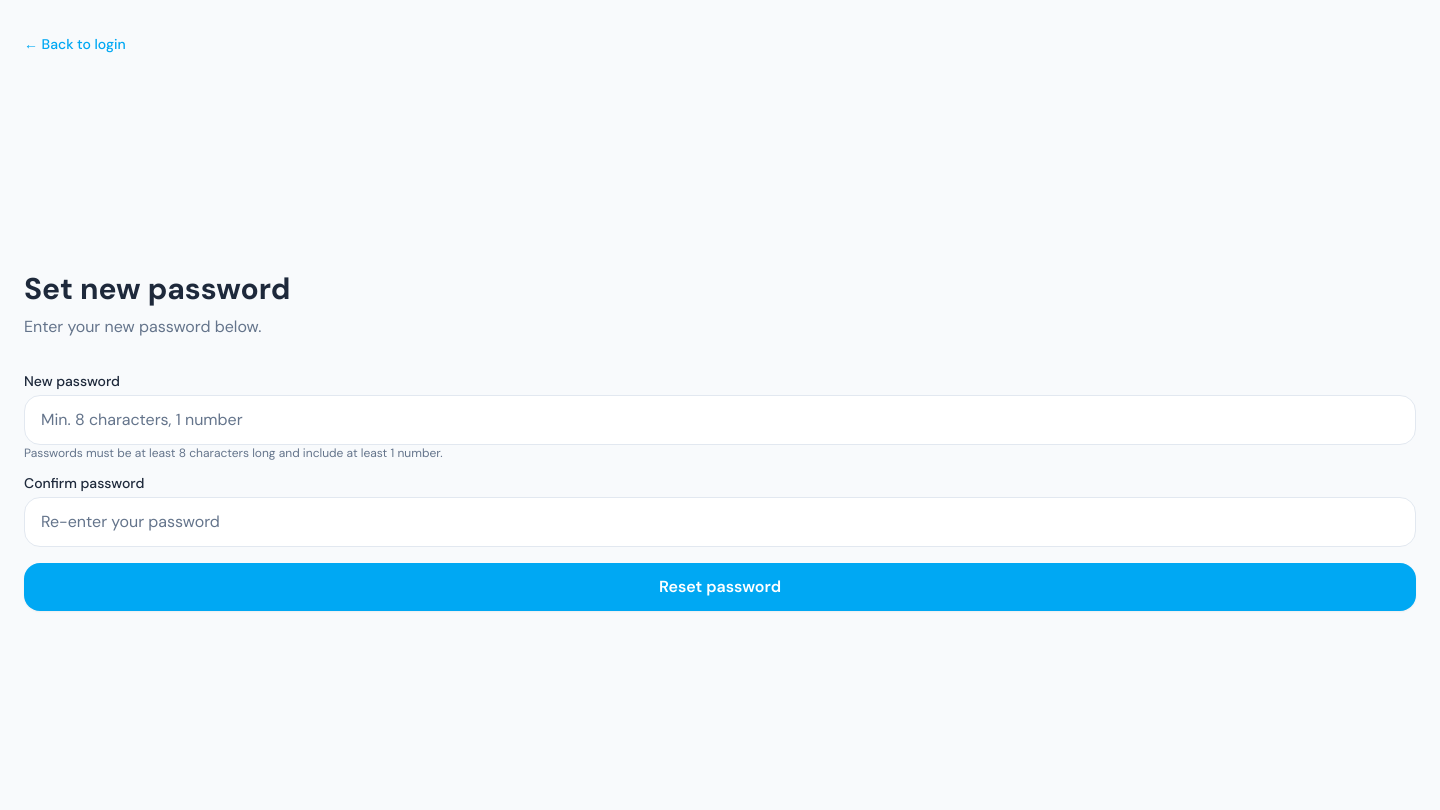
Test: ResetPasswordPage › shows error when passwords do not match
Type "securePass1" into the password field with test id "password-input" at {"x": 720, "y": 420}, box [24,395,1416,445]
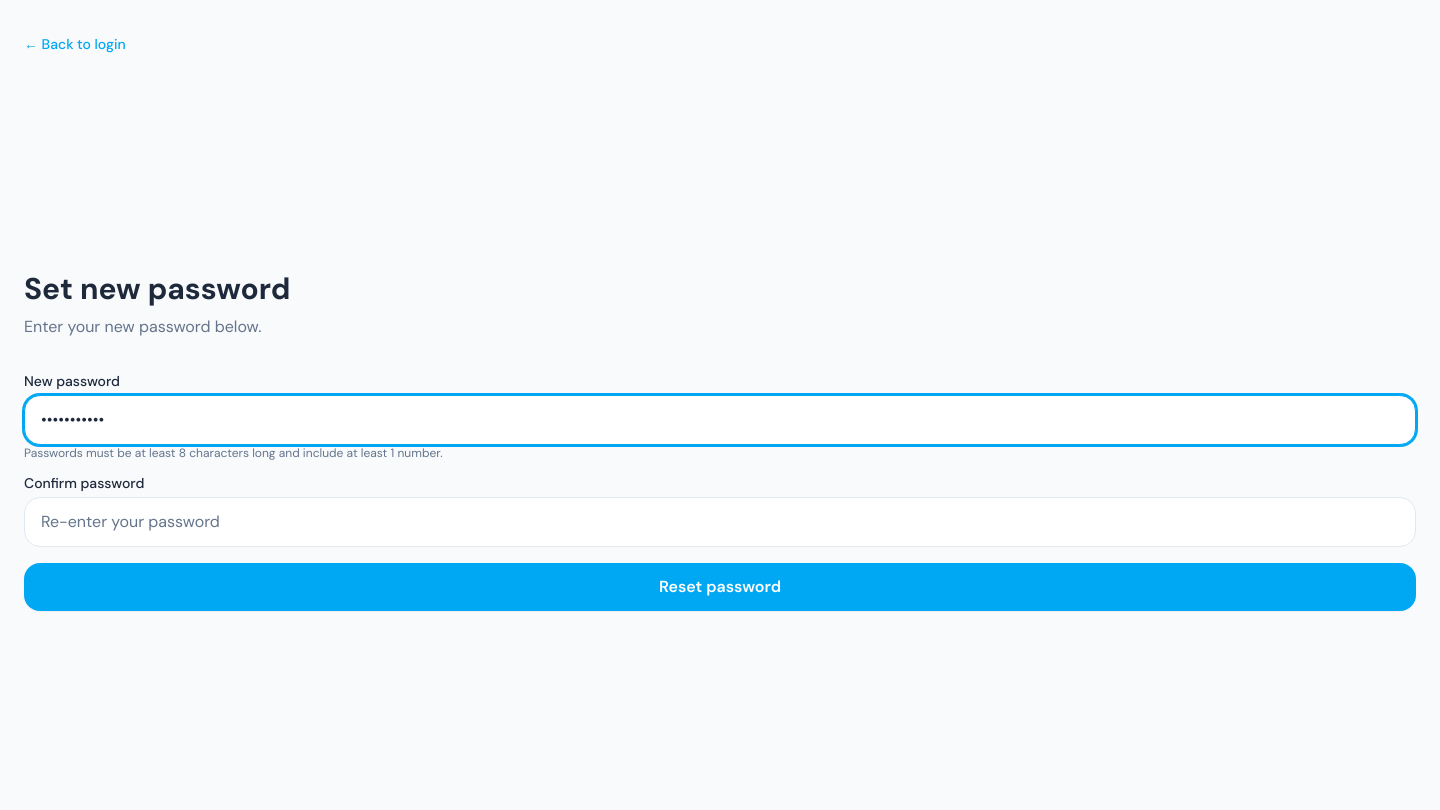
Type "differentPass1" into the password field with test id "confirm-password-input" at {"x": 720, "y": 522}, box [24,497,1416,547]
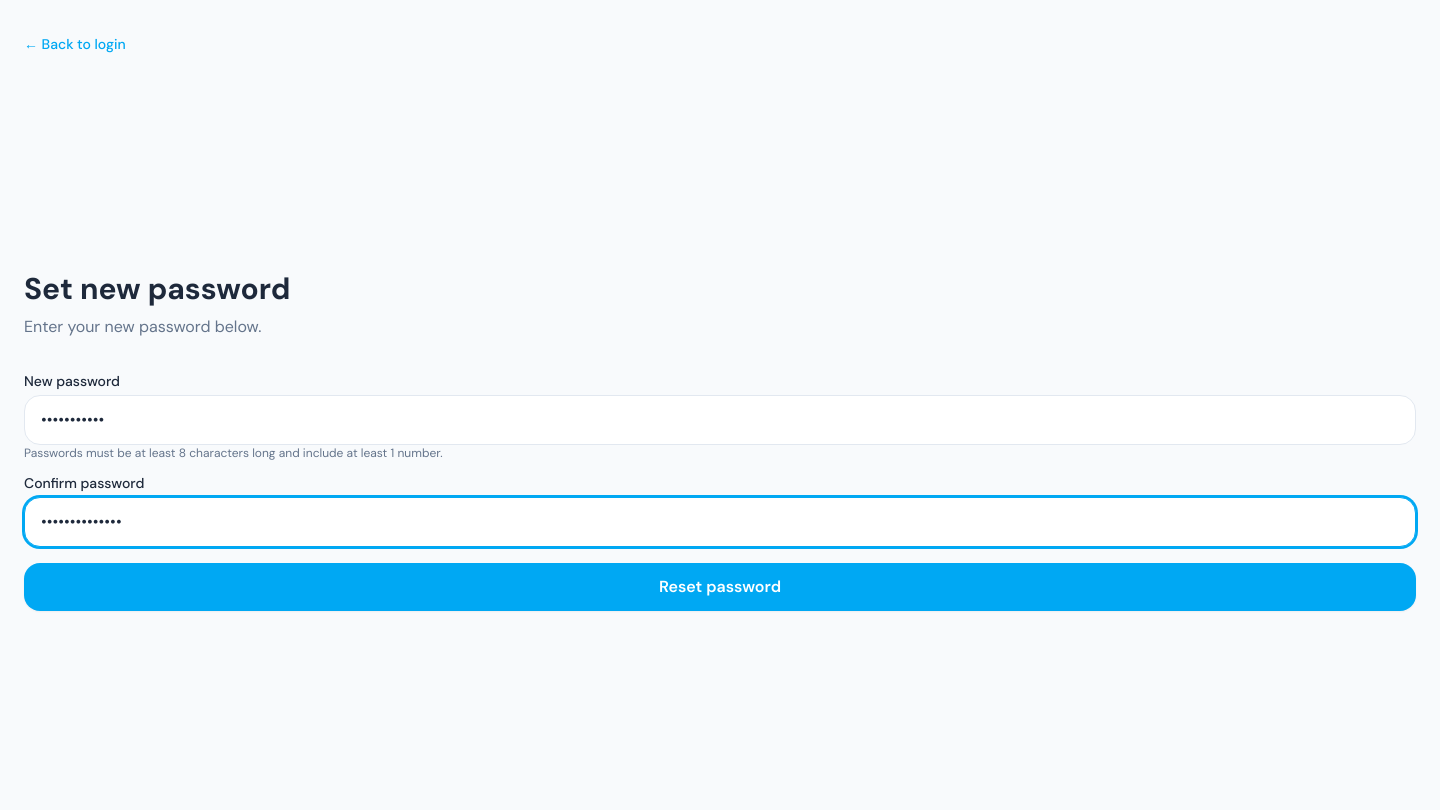
Click the button with test id "submit-button" at {"x": 720, "y": 587}, box [24,563,1416,611]
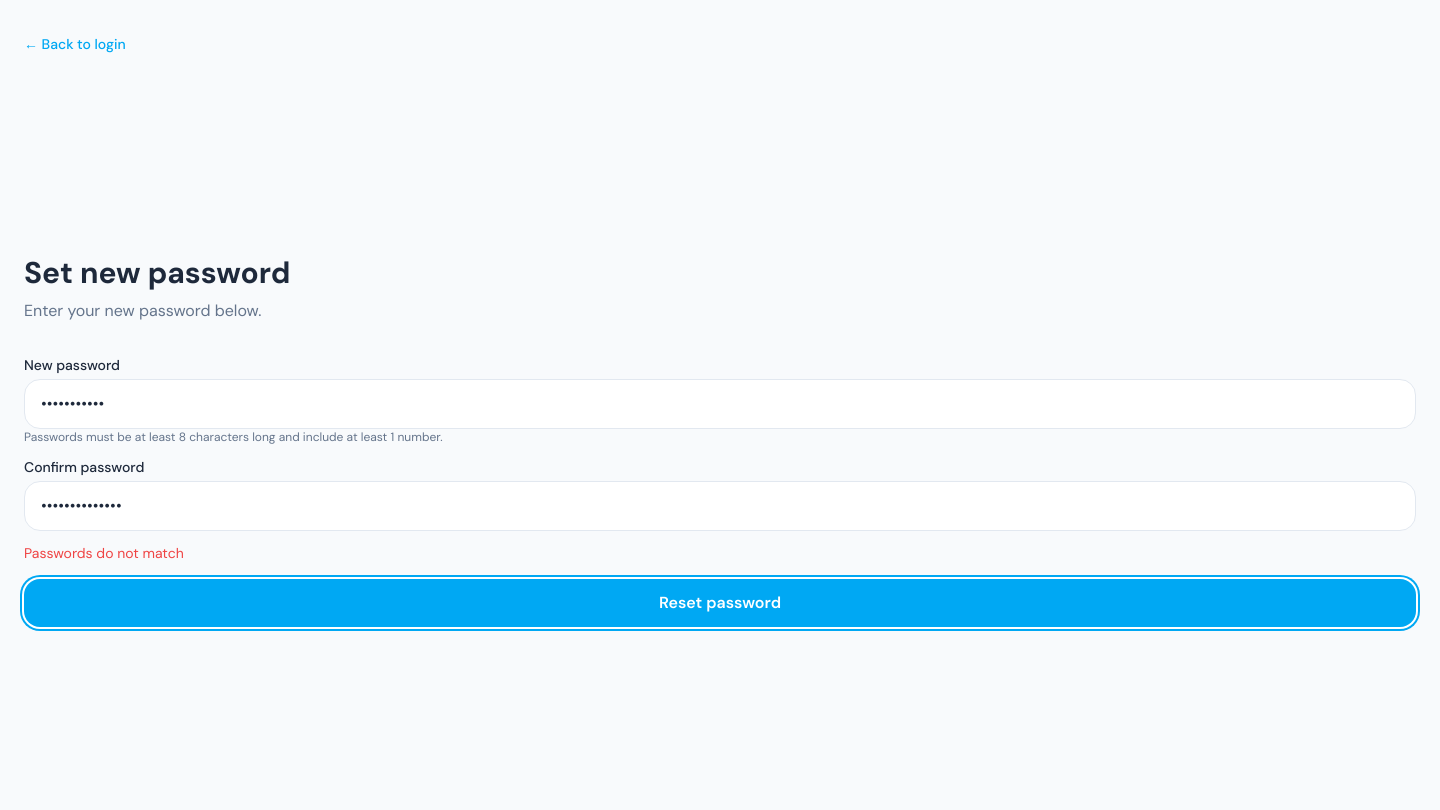
Check: the message with test id "field-error" shows "do not match", box [24,544,184,562]
